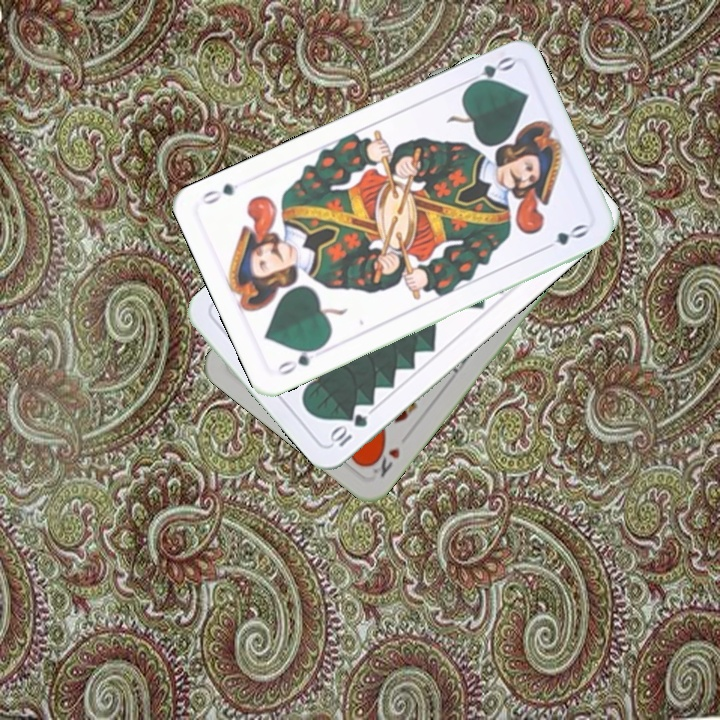G10: (324, 409, 370, 450)
GO: (460, 52, 517, 91), (272, 341, 326, 378)
HK: (365, 441, 403, 480)
